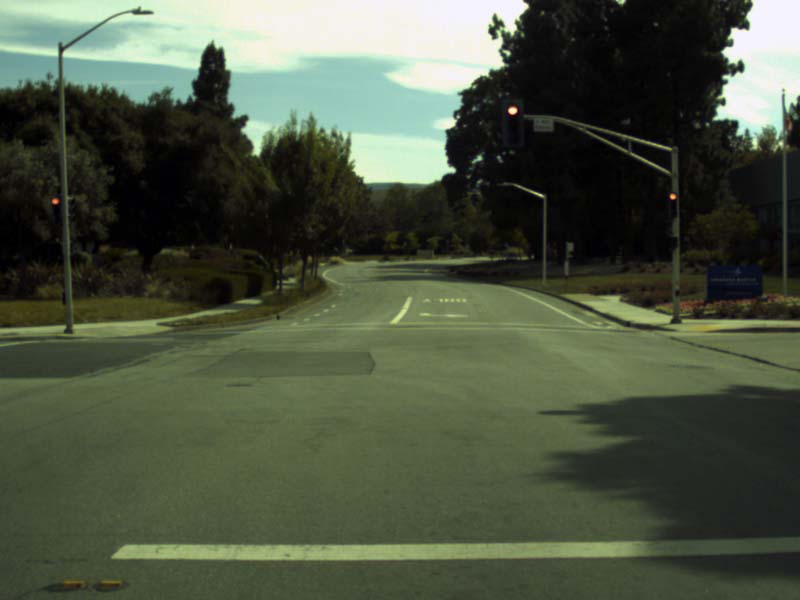Red: (502, 97, 524, 147), (50, 195, 59, 225), (666, 190, 676, 217)
